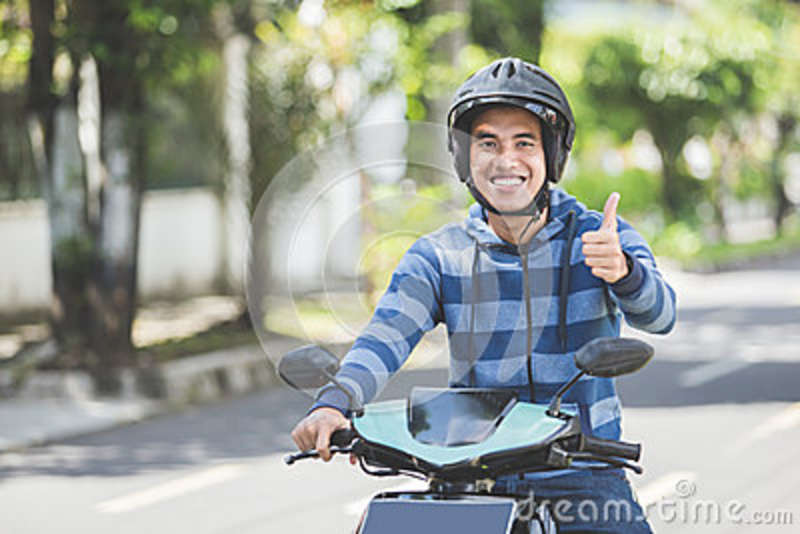helmet: (440, 58, 574, 174)
